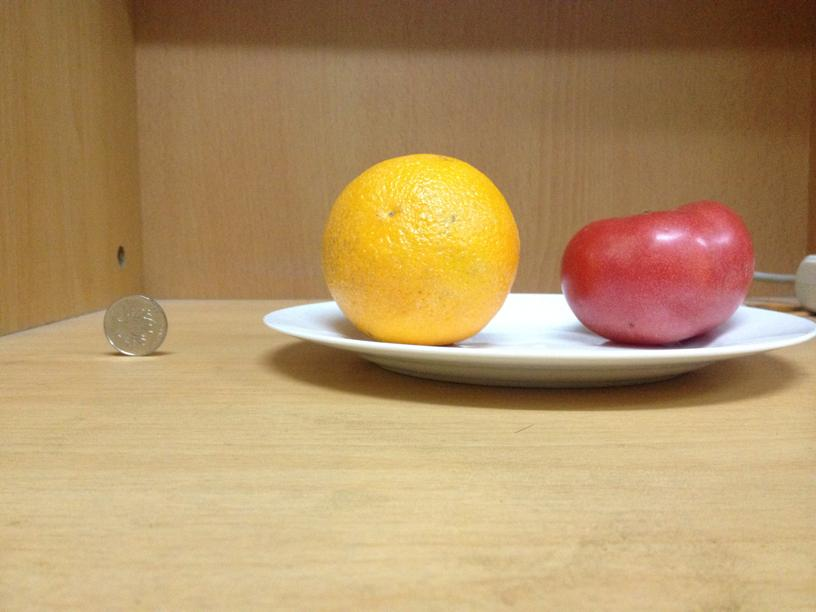coin: (104, 293, 168, 356)
orange: (323, 154, 519, 344)
tomato: (561, 201, 753, 343)
